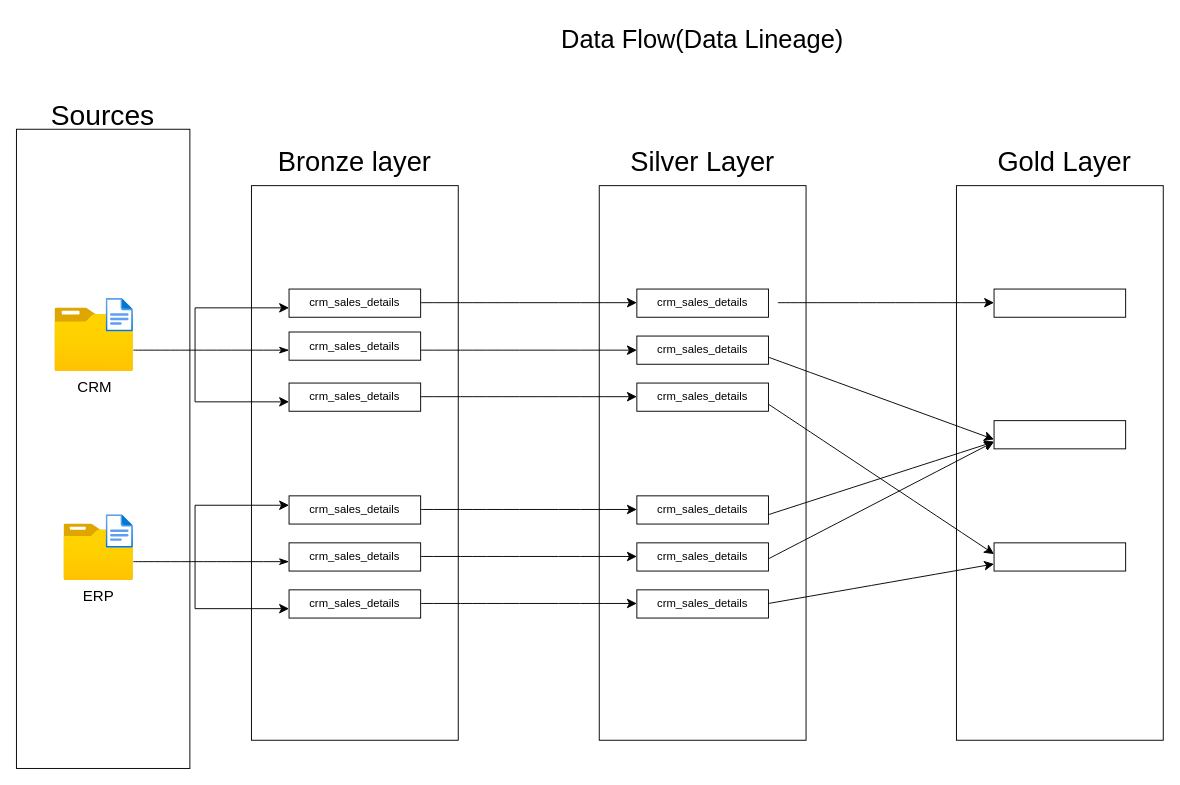
The diagram is 1180 pixels wide and 785 high, and some of its shapes have lost their labels. The shapes that lost their labels are listed below. From the top down, each one's centre as x and y in pixels, then its label:
the point at 1059,302: fact_sales
the point at 1059,434: dim_customers
the point at 1059,556: dim_products
